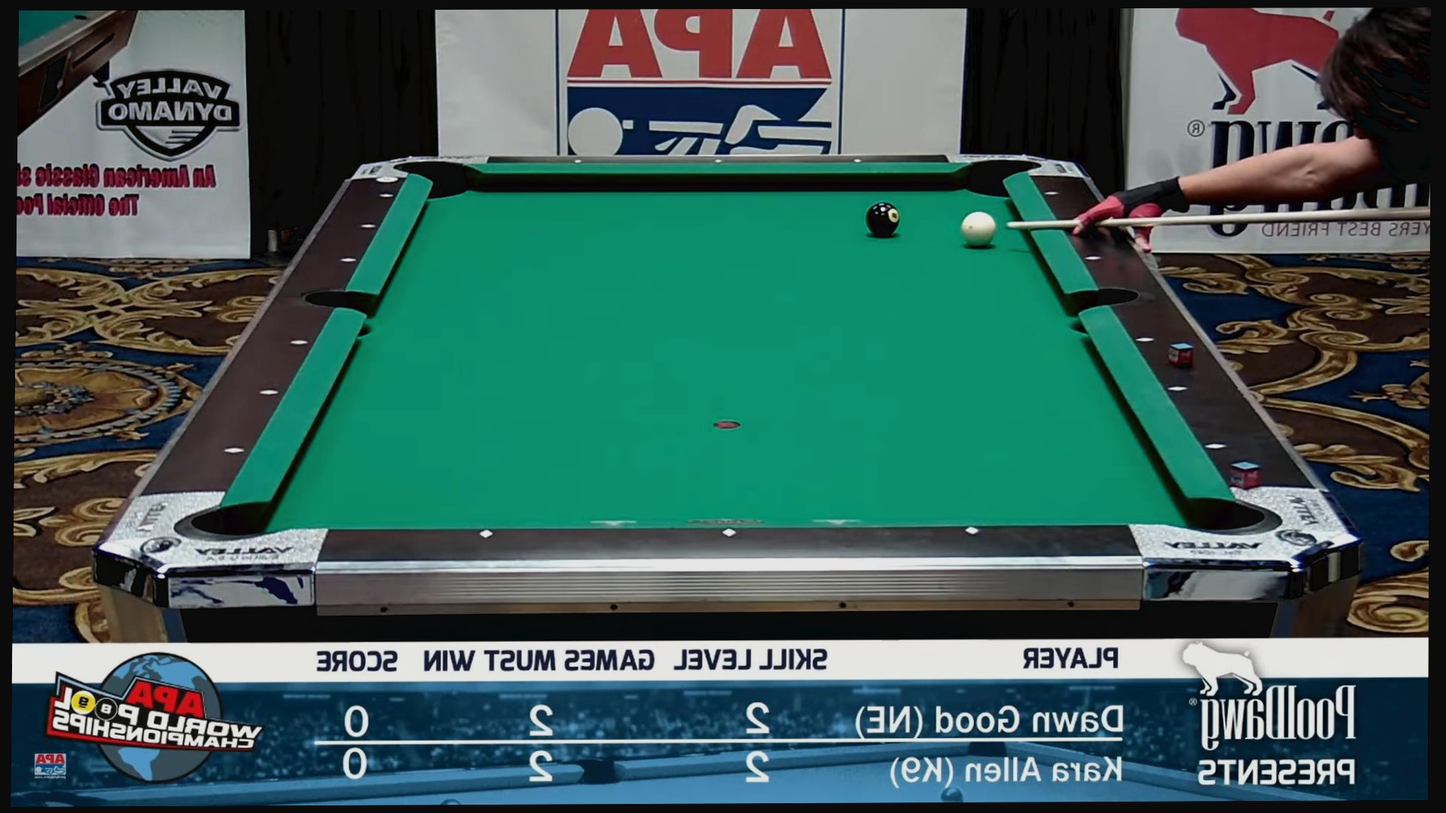Black: (865, 201, 901, 237)
Cue: (962, 211, 996, 248)
Solid: (378, 190, 395, 201), (1208, 442, 1224, 453), (1171, 382, 1187, 393), (1085, 254, 1101, 265), (1044, 187, 1060, 198), (850, 155, 866, 166), (711, 156, 727, 167), (570, 156, 586, 167), (1138, 335, 1155, 345), (361, 220, 378, 230), (342, 254, 359, 264), (478, 527, 495, 537), (294, 337, 310, 347), (262, 389, 278, 399), (227, 446, 243, 456), (722, 526, 738, 536), (964, 526, 980, 536)
